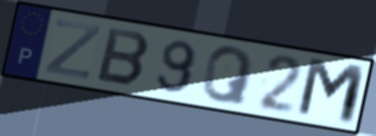2: (258, 53, 304, 116)
9: (158, 39, 199, 96)
B: (94, 25, 153, 88)
M: (293, 55, 369, 129)
Q: (200, 45, 257, 108)
Z: (42, 17, 104, 82)
